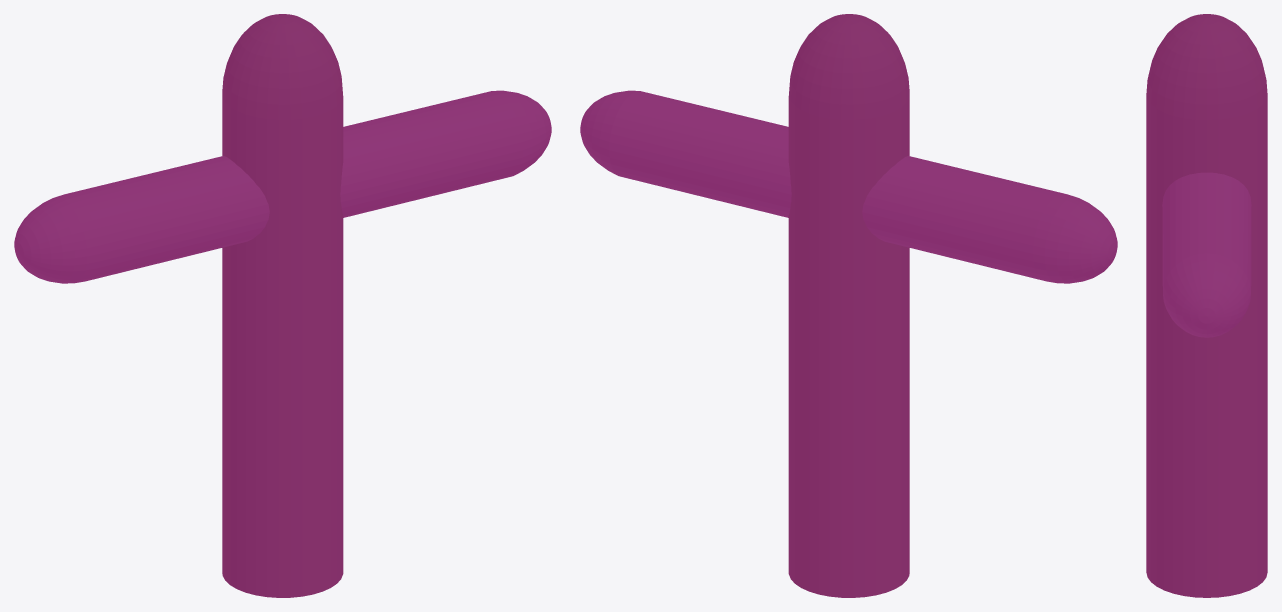
Rendered from grave_type_01.glb.
3 renders of one model, left to right at view 1: azimuth 30°, elevation 25°; view 2: azimuth 150°, elevation 25°; view 3: azimuth 270°, elevation 25°, orthographic.
Visible parts, largest first — view 1: Sphere, Sphere.001; view 2: Sphere, Sphere.001; view 3: Sphere, Sphere.001.
Boxes of the visible parts, x1=… form: Sphere: x1=222, y1=14, x2=343, y2=597; Sphere.001: x1=14, y1=90, x2=551, y2=283; Sphere: x1=788, y1=14, x2=909, y2=597; Sphere.001: x1=580, y1=90, x2=1117, y2=283; Sphere: x1=1146, y1=14, x2=1267, y2=597; Sphere.001: x1=1162, y1=172, x2=1251, y2=337.
Bounding box in the file's own units: 5.79 × 5.8 × 1.15.
